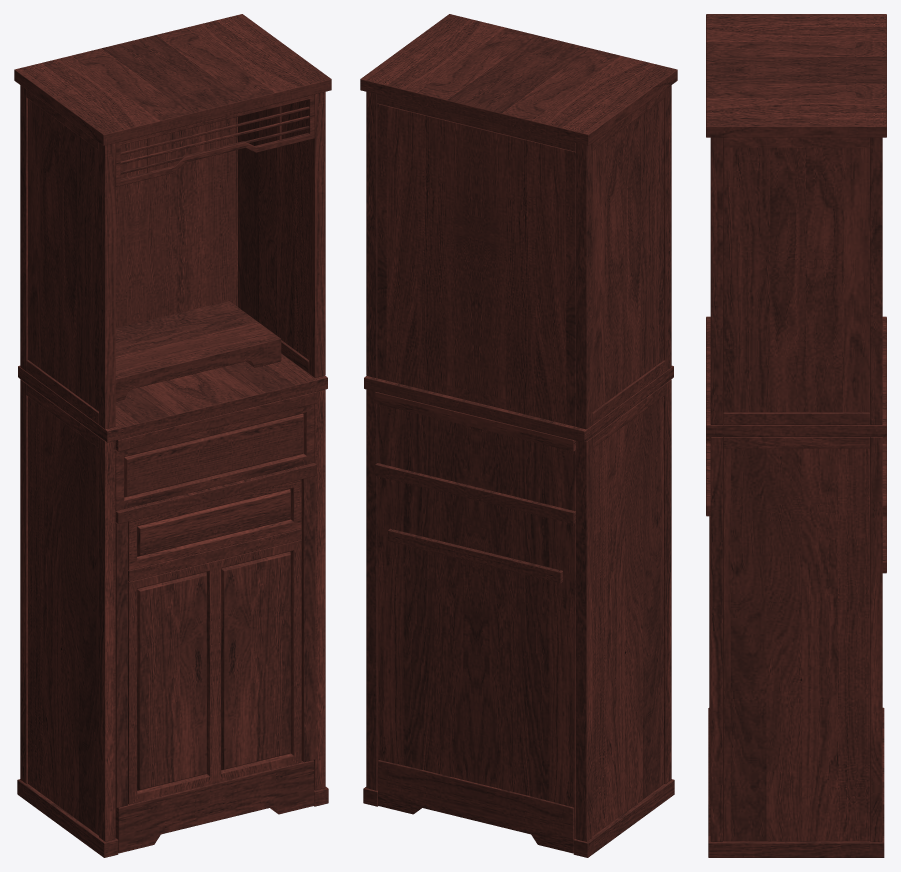
The picture shows the model from 3 angles, left to right: view 1: azimuth 30°, elevation 25°; view 2: azimuth 150°, elevation 25°; view 3: azimuth 270°, elevation 25°; orthographic projection.
Visible parts, largest first — view 1: SY-柜子; view 2: SY-柜子; view 3: SY-柜子.
Part boxes in pixels (x1,y1,x2,y2): SY-柜子: [14, 14, 331, 857]; SY-柜子: [360, 14, 677, 857]; SY-柜子: [706, 14, 886, 857].
Size of the model in its own units: 0.6199 by 0.42 by 1.88.
